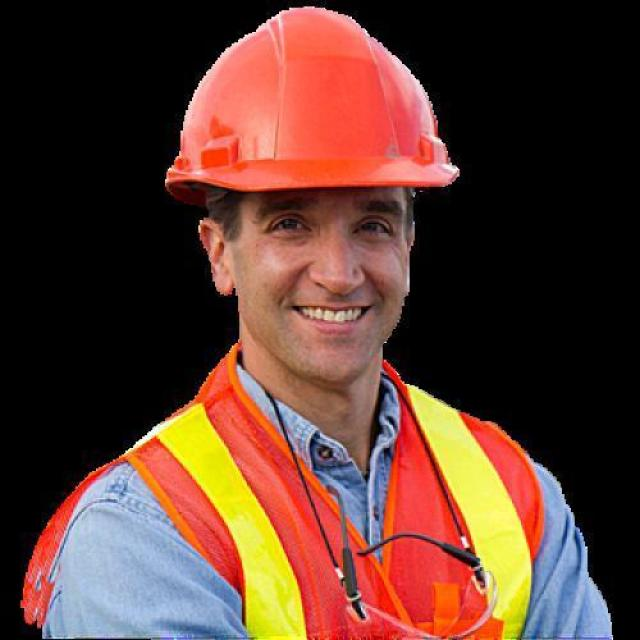helmet: (166, 8, 458, 206)
